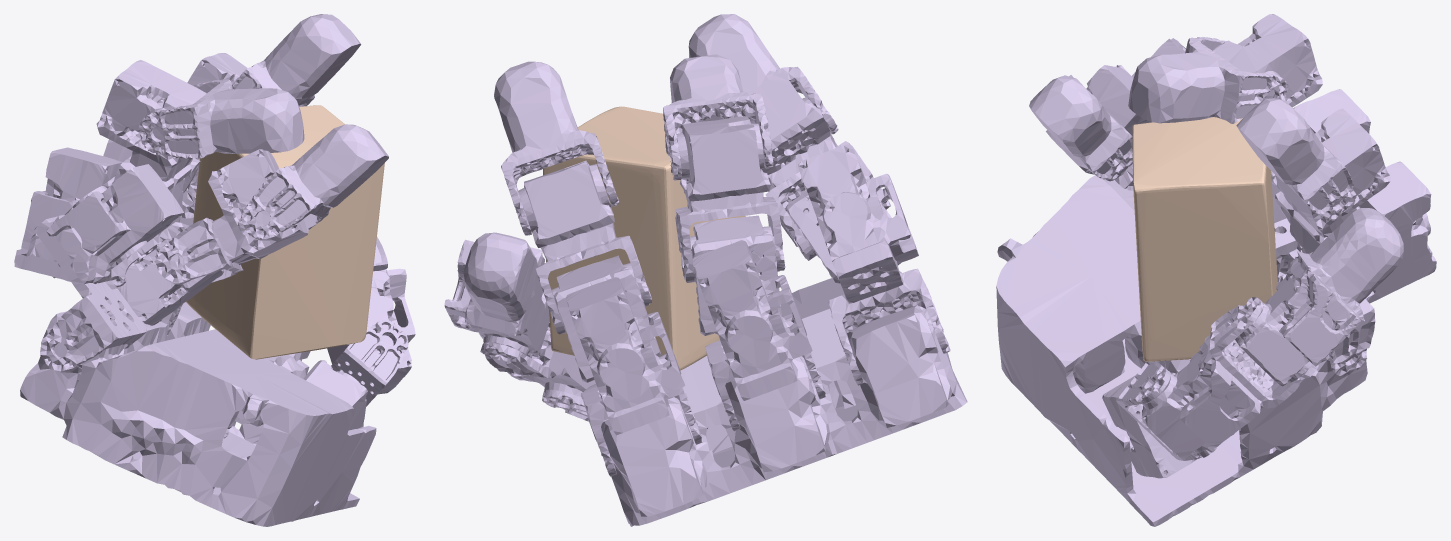
File: 653412b28bea1c-closed.glb
3 views of the same model, side by side, from view 1: azimuth 30°, elevation 25°; view 2: azimuth 150°, elevation 25°; view 3: azimuth 270°, elevation 25° (orthographic). The views are drawn at different scales.
Visible parts, largest first — view 1: LEAP_hand, world; view 2: LEAP_hand, world; view 3: LEAP_hand, world.
Boxes of the visible parts, x1,y1,x2,y2 form: LEAP_hand: (14, 14, 415, 526); world: (186, 105, 384, 359); LEAP_hand: (444, 14, 967, 526); world: (543, 106, 745, 370); LEAP_hand: (996, 14, 1436, 526); world: (1132, 117, 1277, 361).
Size of the model in its own units: 0.1706 by 0.1799 by 0.1644.
